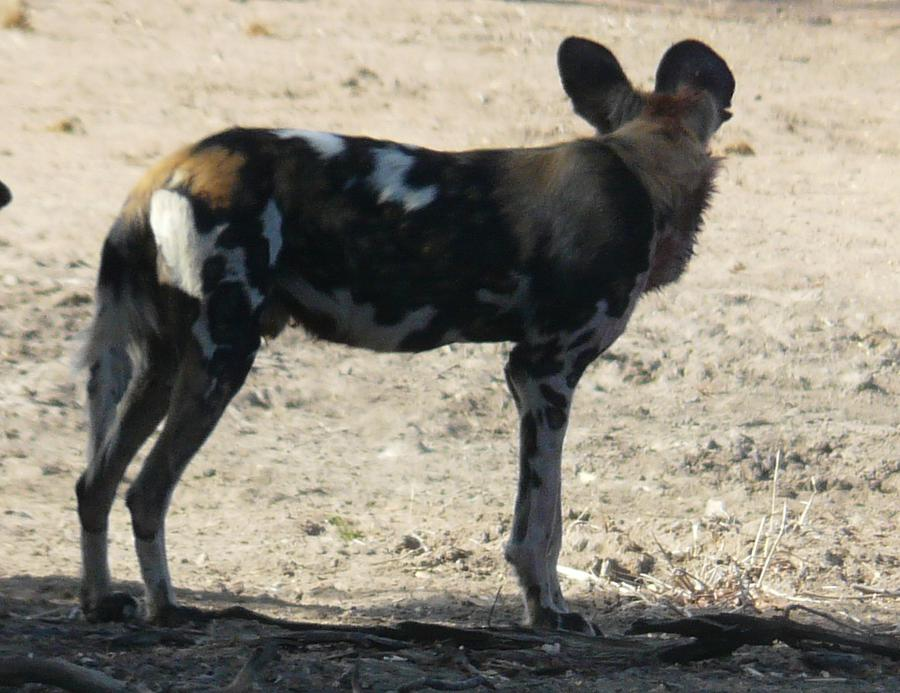wilddog: (51, 47, 787, 531)
